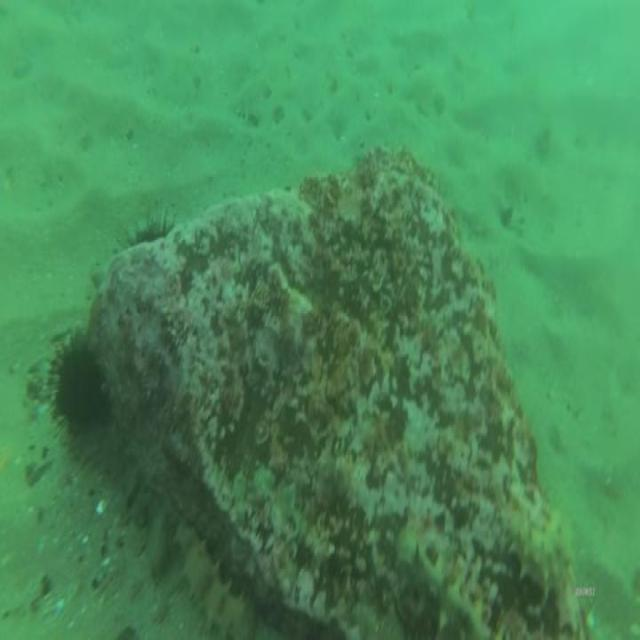echinus: (44, 332, 113, 457)
holothurian: (394, 524, 496, 640), (502, 488, 580, 607), (175, 520, 250, 640)
